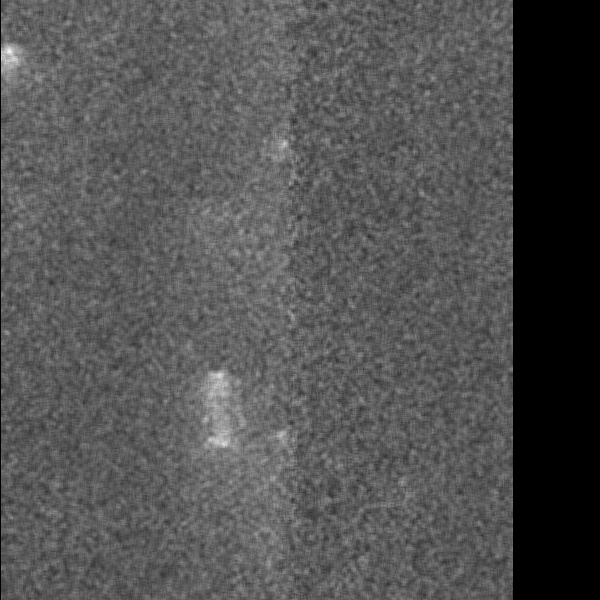spark: (256, 62, 287, 104)
